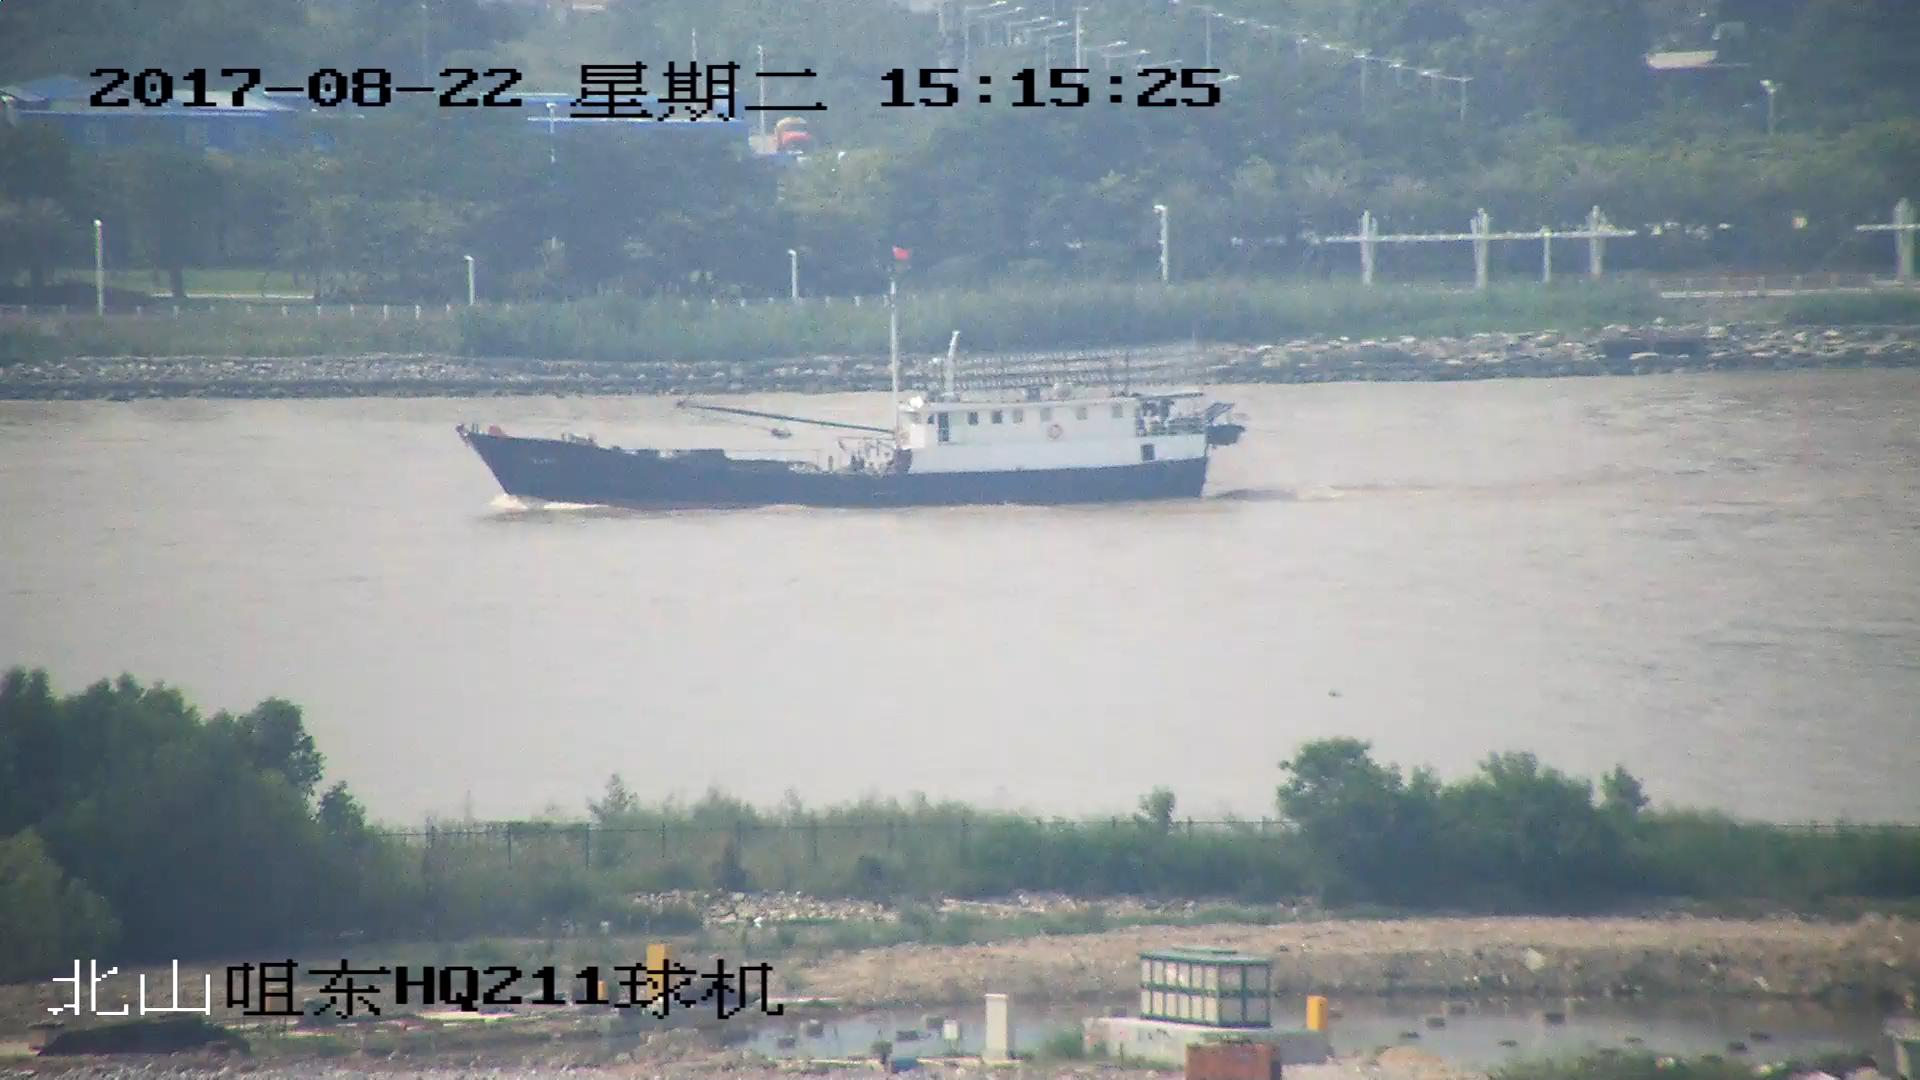fishing boat: (459, 258, 1249, 512)
